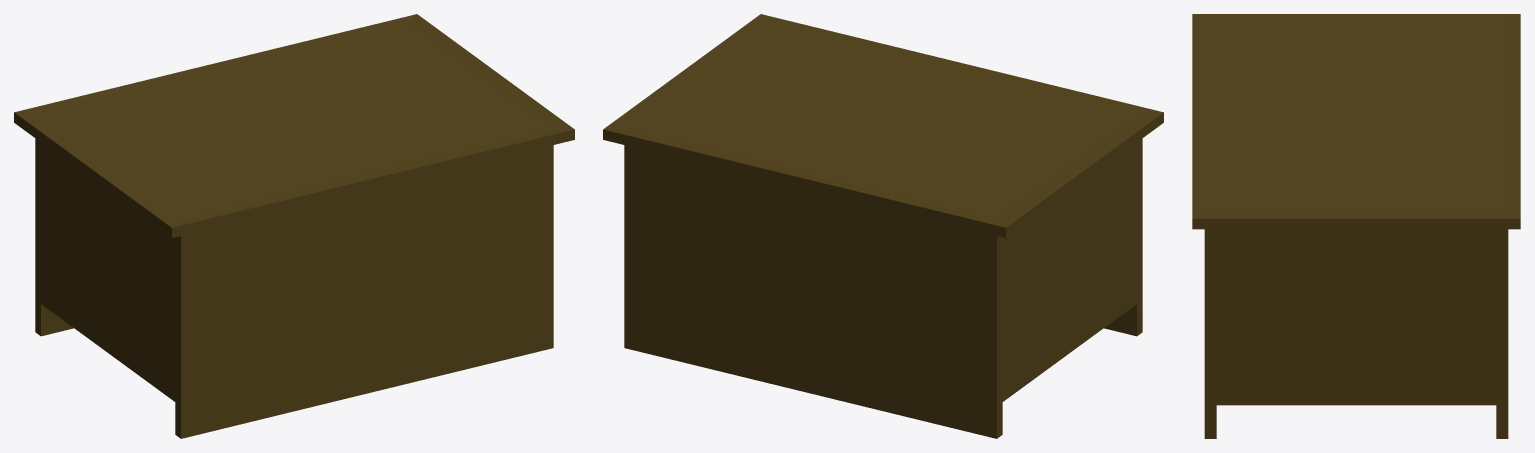
File: SM_Desk_01.fbx
3 views of the same model, side by side, from view 1: azimuth 30°, elevation 25°; view 2: azimuth 150°, elevation 25°; view 3: azimuth 270°, elevation 25° (orthographic). The views are drawn at different scales.
Visible parts, largest first — view 1: Desk_01; view 2: Desk_01; view 3: Desk_01.
Part boxes in pixels (bbox=[...]): Desk_01: bbox=[14, 14, 574, 438]; Desk_01: bbox=[603, 14, 1163, 438]; Desk_01: bbox=[1192, 14, 1520, 438].
Bounding box in the file's own units: 198 × 103 × 134.
